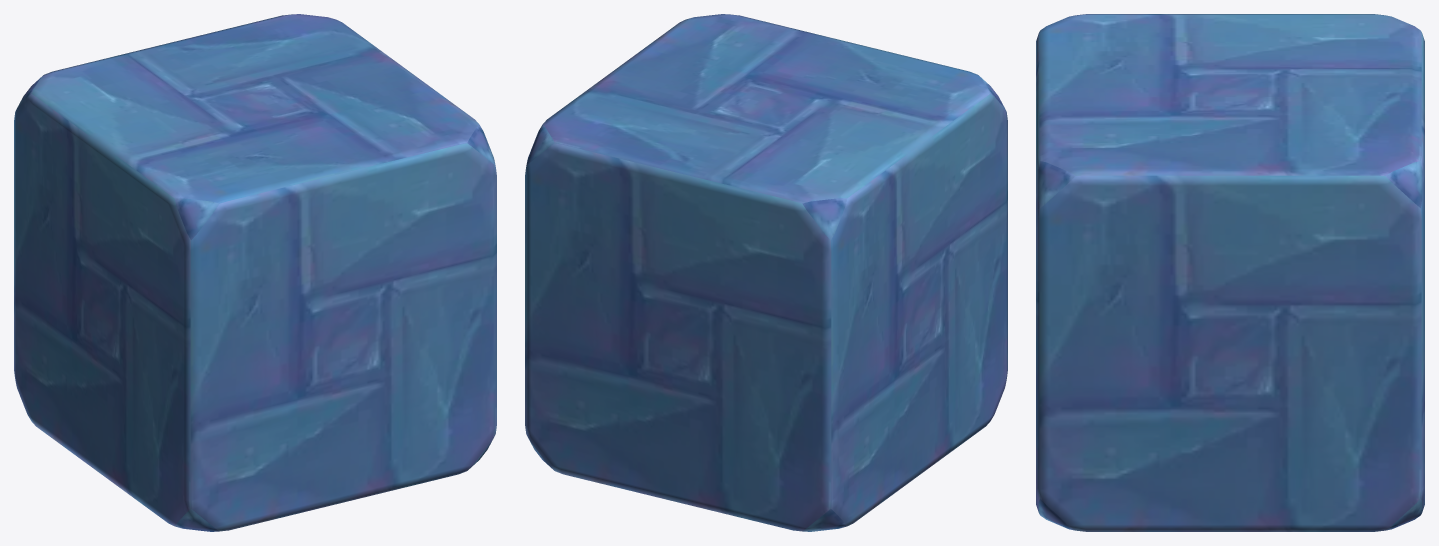
The picture shows the model from 3 angles, left to right: view 1: azimuth 30°, elevation 25°; view 2: azimuth 150°, elevation 25°; view 3: azimuth 270°, elevation 25°; orthographic projection. The views are drawn at different scales.
Bounding box in the file's own units: 2.49 × 2.56 × 2.49.
Materials: 1 (1 with a texture image).
